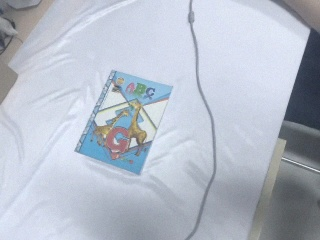book: (71, 69, 176, 176)
